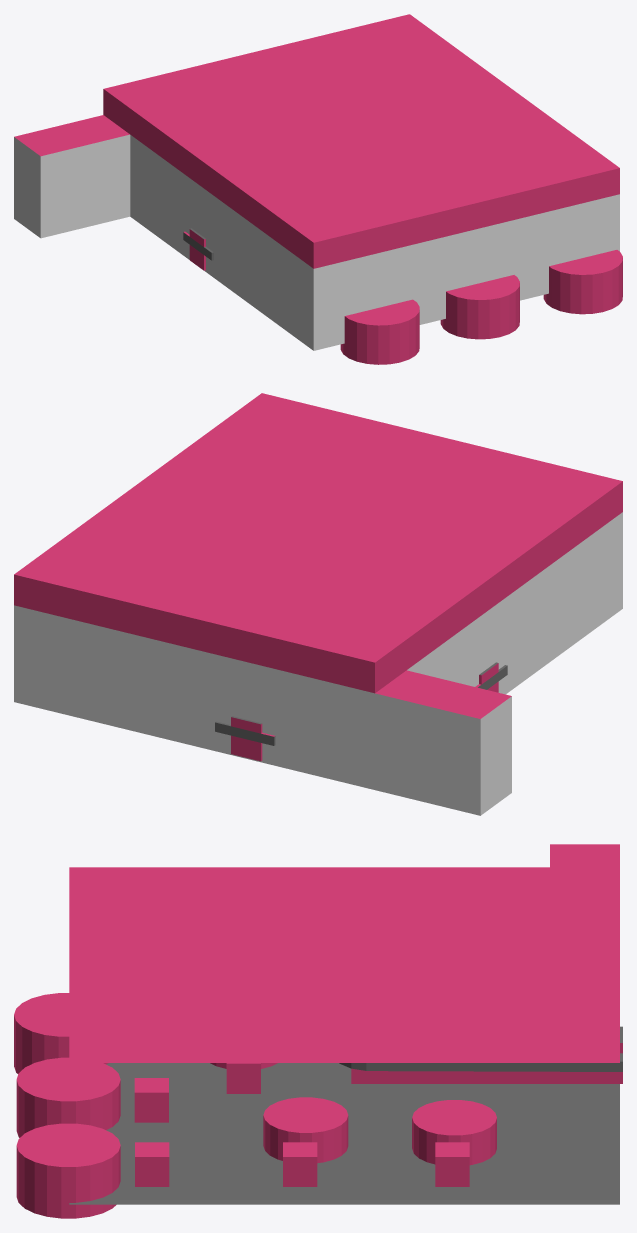
File: suki's sushi.fbx
3 renders of one model, top to bottom at view 1: azimuth 30°, elevation 25°; view 2: azimuth 150°, elevation 25°; view 3: azimuth 270°, elevation 25°, orthographic. The views are drawn at different scales.
Visible parts, largest first — view 1: Cube.111, Cylinder.058, Cylinder.060, Cylinder.059, Cube.112; view 2: Cube.111, Cube.112; view 3: Cube.111, Cylinder.060, Cylinder.059, Cube.112, Cylinder.062, Cylinder.063, Cylinder.058, Cube.164, Cube.165, Cube.166, Cube.167, Cube.168.
Boxes of the visible parts, left/top/right/bottom form: Cube.111: left=14, top=14, right=619, bottom=350; Cylinder.058: left=340, top=299, right=419, bottom=364; Cylinder.060: left=543, top=250, right=622, bottom=314; Cylinder.059: left=440, top=275, right=519, bottom=339; Cube.112: left=183, top=228, right=213, bottom=270; Cube.111: left=14, top=393, right=622, bottom=815; Cube.112: left=215, top=662, right=507, bottom=761; Cube.111: left=69, top=844, right=619, bottom=1204; Cylinder.060: left=16, top=1123, right=120, bottom=1218; Cylinder.059: left=16, top=1057, right=120, bottom=1137; Cube.112: left=339, top=1026, right=622, bottom=1083; Cylinder.062: left=263, top=1097, right=348, bottom=1163; Cylinder.063: left=412, top=1100, right=496, bottom=1165; Cylinder.058: left=14, top=993, right=108, bottom=1073; Cube.164: left=134, top=1078, right=168, bottom=1122; Cube.165: left=135, top=1142, right=169, bottom=1186; Cube.166: left=283, top=1142, right=317, bottom=1186; Cube.167: left=435, top=1142, right=469, bottom=1186; Cube.168: left=226, top=1063, right=260, bottom=1093.
Bounding box in the file's own units: 1148 × 333 × 1169.
